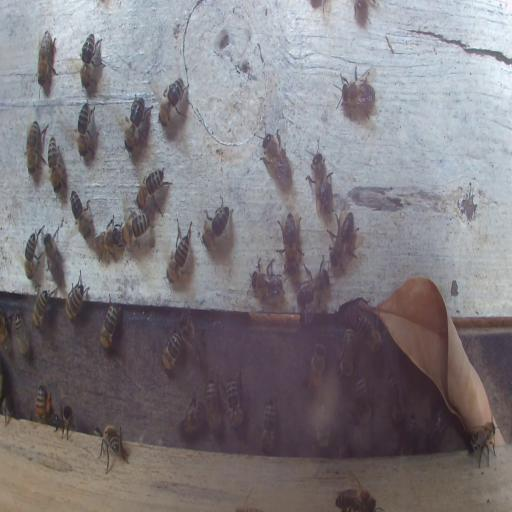nonpollenbee: (335, 64, 377, 118), (297, 256, 327, 326), (307, 141, 333, 219), (328, 206, 359, 268), (260, 128, 292, 186), (166, 219, 193, 283), (135, 167, 172, 213), (80, 31, 106, 95), (201, 199, 234, 249), (74, 98, 98, 166), (97, 423, 128, 473), (278, 210, 302, 273), (250, 262, 284, 304), (467, 420, 496, 469), (123, 95, 147, 154), (158, 79, 189, 124), (37, 27, 57, 95), (64, 270, 90, 322), (70, 190, 94, 244), (385, 369, 406, 430), (356, 309, 384, 354), (99, 292, 120, 350), (95, 216, 120, 264), (42, 228, 64, 282), (26, 118, 44, 178), (314, 393, 332, 452), (307, 341, 326, 396), (121, 211, 149, 248), (225, 378, 244, 431), (47, 134, 64, 193), (179, 306, 198, 358), (161, 328, 182, 374), (180, 394, 203, 436), (426, 409, 450, 449), (334, 490, 377, 512), (205, 378, 221, 436), (31, 286, 52, 330), (260, 400, 277, 454), (354, 374, 372, 424), (24, 230, 41, 280), (340, 326, 356, 379), (14, 308, 30, 359), (54, 404, 76, 439), (0, 308, 11, 358), (354, 0, 372, 28), (1, 395, 15, 425)
pollenbee: (35, 385, 51, 423)
